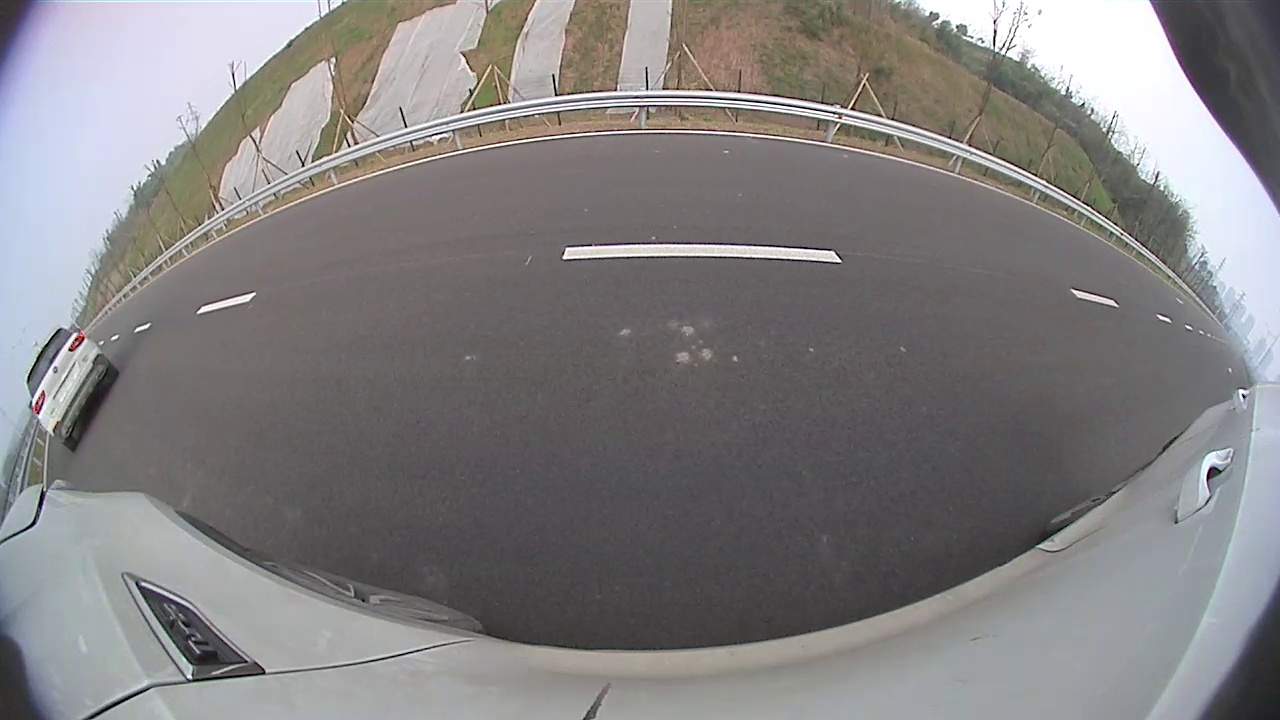car: (23, 326, 119, 453)
